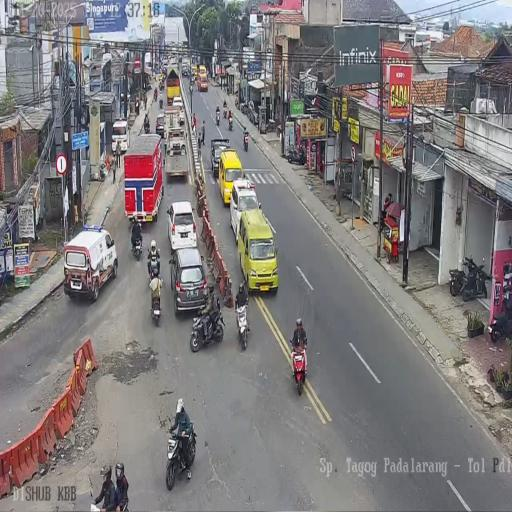3: (124, 134, 164, 226), (165, 127, 189, 179), (166, 64, 180, 104), (182, 58, 190, 76)
car: (63, 224, 117, 302), (236, 208, 278, 292), (170, 247, 208, 317), (166, 200, 197, 251), (218, 148, 244, 204), (110, 118, 130, 154), (197, 68, 208, 92), (172, 96, 183, 118), (155, 114, 165, 136), (191, 65, 198, 79), (162, 58, 168, 68)
truck: (164, 422, 196, 490), (449, 253, 488, 302), (189, 301, 224, 353), (488, 288, 512, 342), (290, 336, 307, 394), (234, 300, 250, 351), (149, 280, 162, 325), (286, 143, 306, 165), (131, 230, 143, 260), (240, 99, 249, 115), (243, 132, 249, 152), (144, 118, 150, 133), (276, 124, 282, 138), (228, 115, 233, 131), (160, 76, 166, 89), (153, 88, 158, 102), (216, 110, 220, 125), (159, 96, 163, 110), (223, 105, 227, 119), (235, 96, 239, 109), (206, 68, 210, 78)
